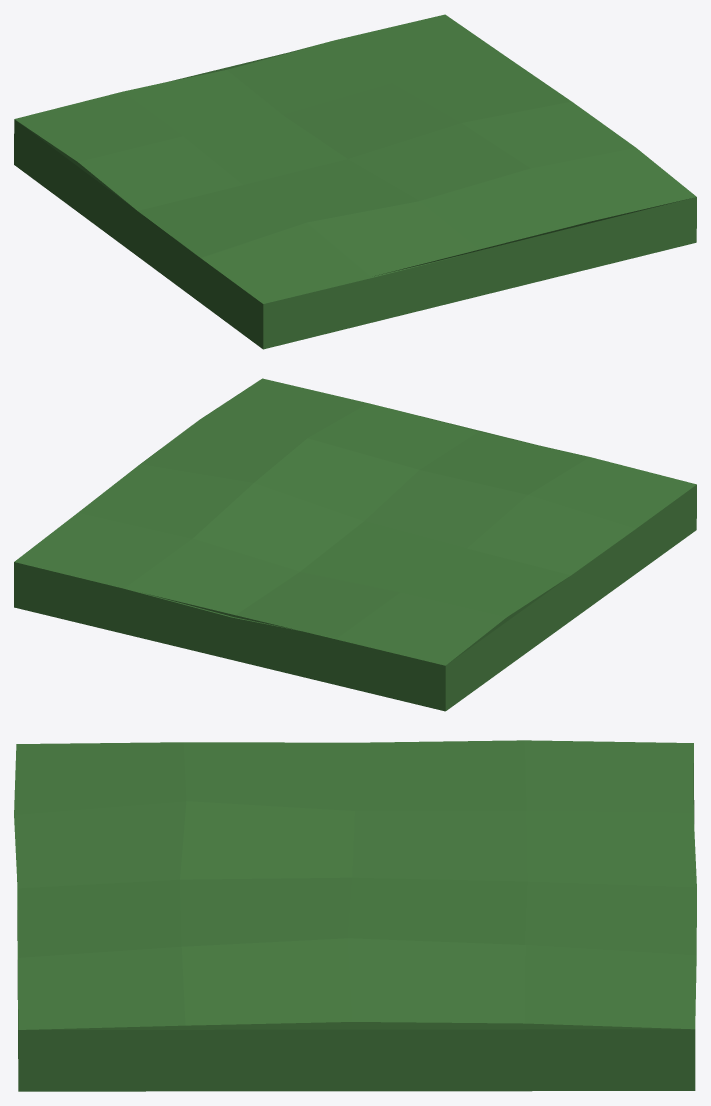
The model's file is TestVoxel2.fbx.
3 renders of one model, top to bottom at view 1: azimuth 30°, elevation 25°; view 2: azimuth 150°, elevation 25°; view 3: azimuth 270°, elevation 25°, orthographic. The views are drawn at different scales.
Visible parts, largest first — view 1: HighPoly; view 2: HighPoly; view 3: HighPoly.
Part boxes in pixels (x1,y1,x2,y2): HighPoly: (14,14,696,349); HighPoly: (14,378,696,711); HighPoly: (14,740,696,1091).
Size of the model in its own units: 201 by 25.85 by 202.
